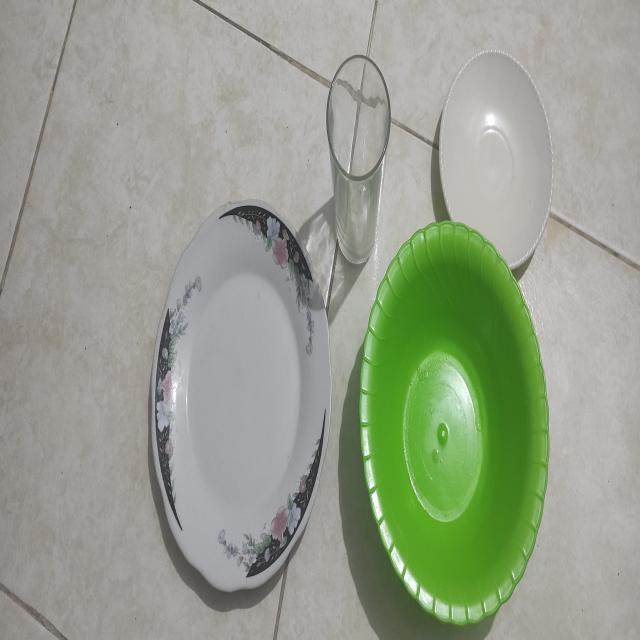ceramic plate: (350, 208, 558, 640), (132, 187, 338, 604), (427, 34, 563, 280)
